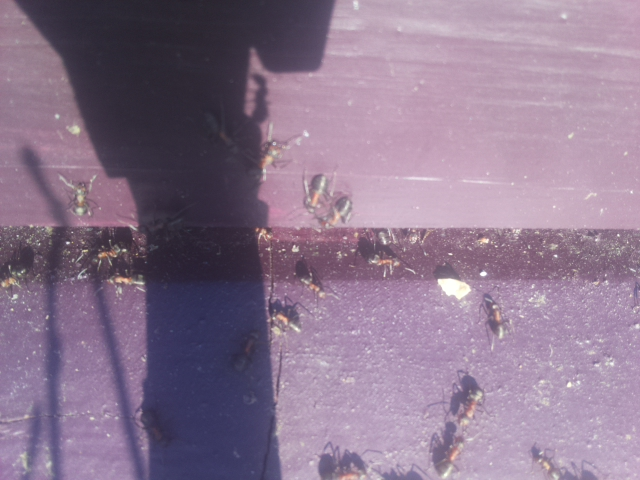ant: (287, 250, 334, 307), (475, 288, 519, 346), (430, 434, 470, 480), (299, 169, 337, 216), (454, 381, 487, 431), (524, 441, 566, 480), (315, 192, 357, 231), (0, 257, 33, 306), (254, 136, 295, 174), (134, 406, 172, 447), (70, 173, 97, 221), (232, 331, 260, 373)
